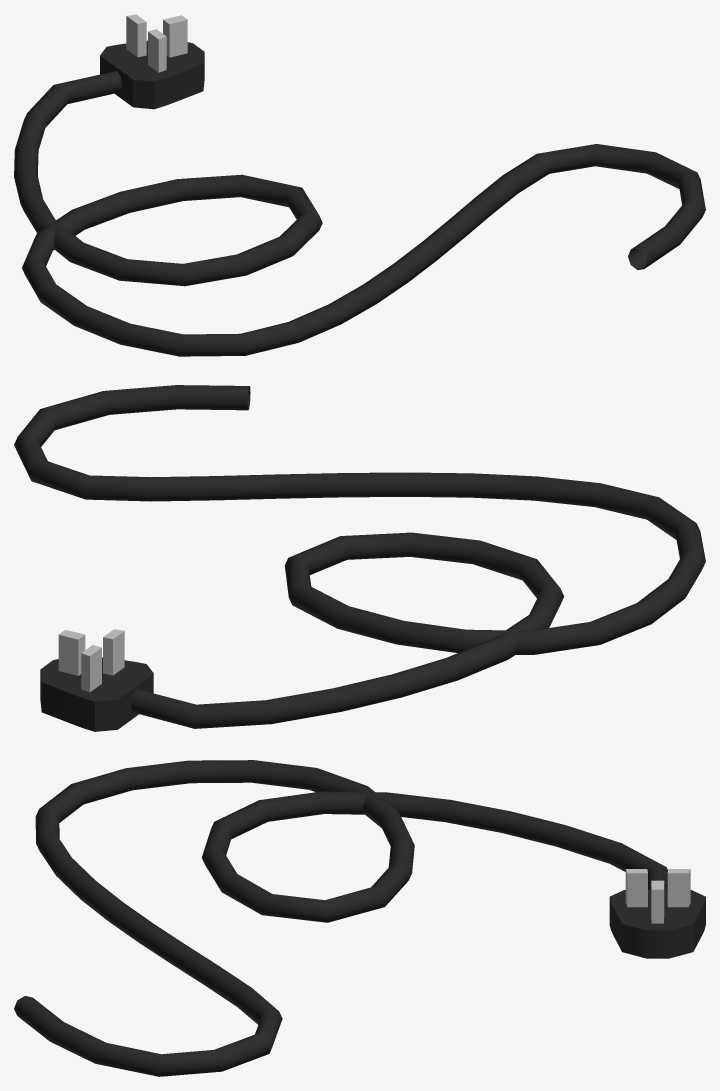
File: cable.fbx
3 views of the same model, one above another, from view 1: azimuth 30°, elevation 25°; view 2: azimuth 150°, elevation 25°; view 3: azimuth 270°, elevation 25° (orthographic). The views are drawn at different scales.
Parts seen in each view (by area): view 1: sweep6; view 2: sweep6; view 3: sweep6.
Part boxes in pixels (x1,y1,x2,y2): sweep6: (14,14,705,356); sweep6: (14,385,705,731); sweep6: (14,760,705,1076).
Size of the model in its own units: 0.5962 by 0.0565 by 0.5731.
